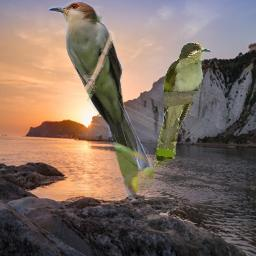Cuckoo: (48, 0, 154, 201), (154, 42, 211, 170)
